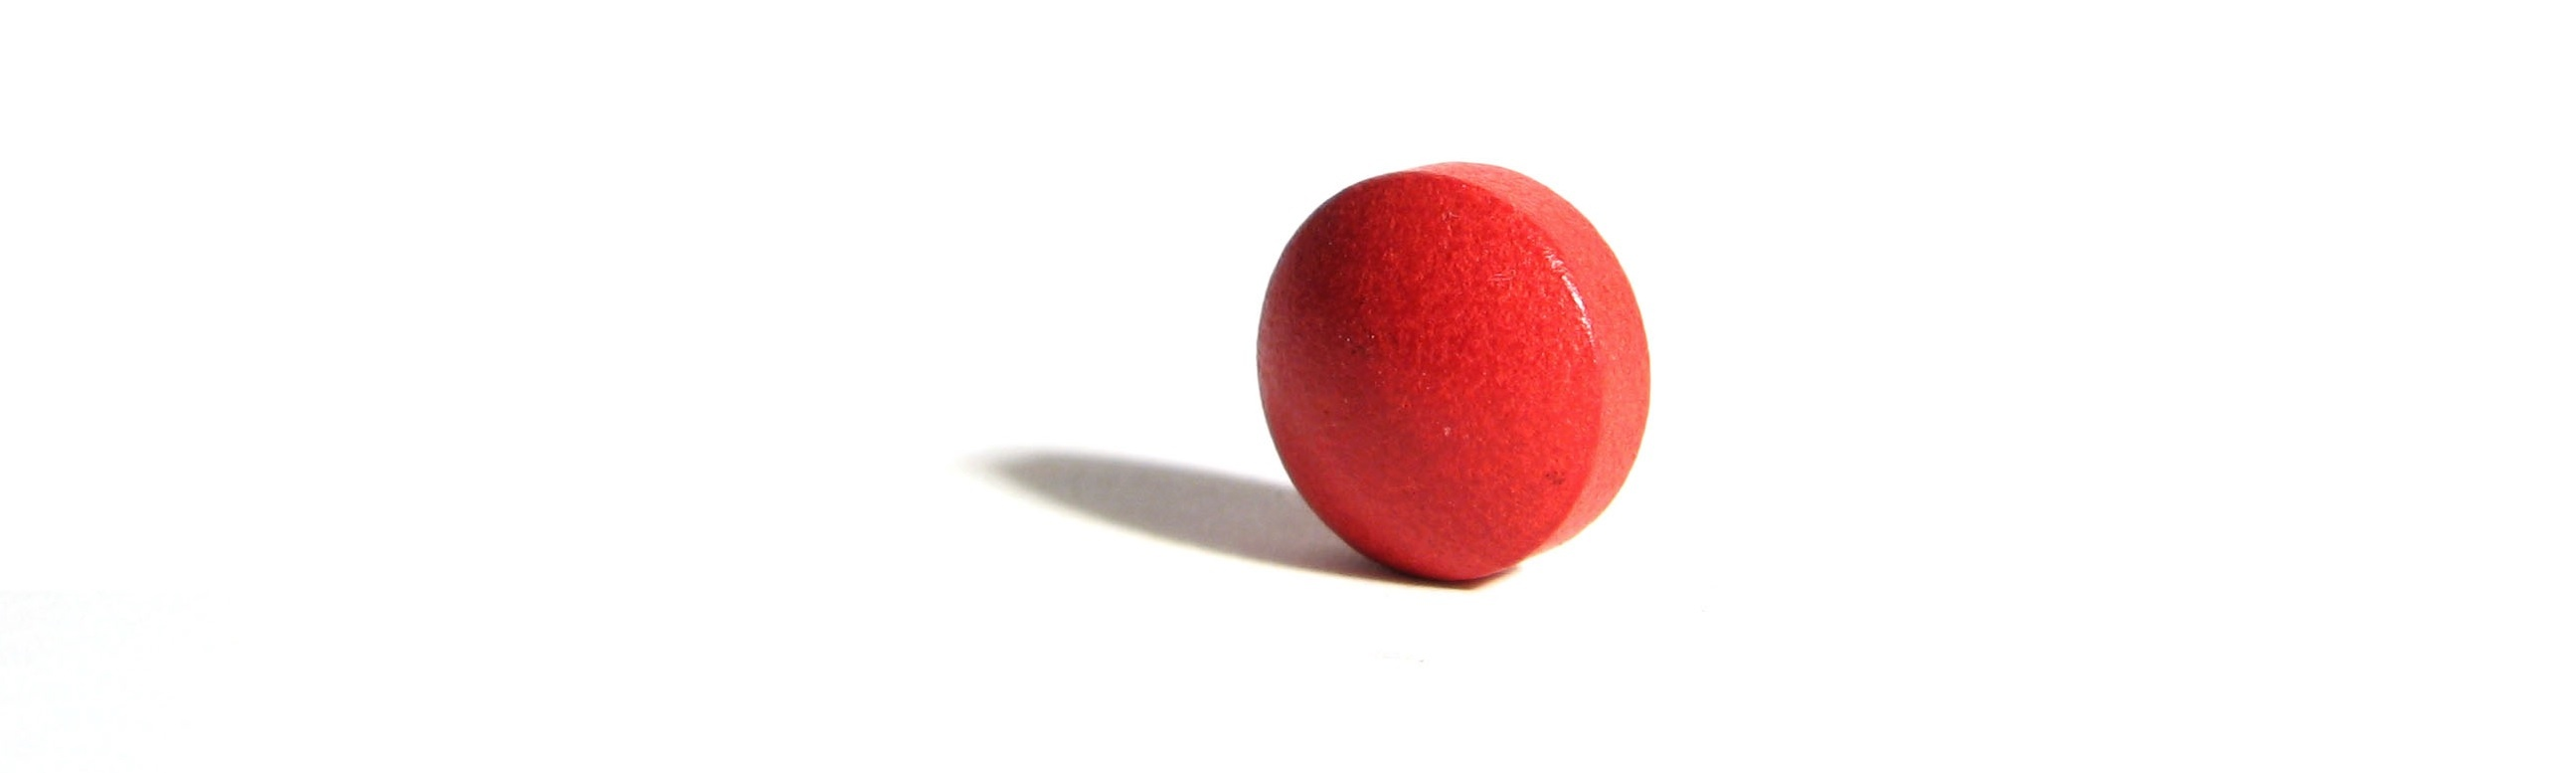pills: (1263, 158, 1653, 582)
